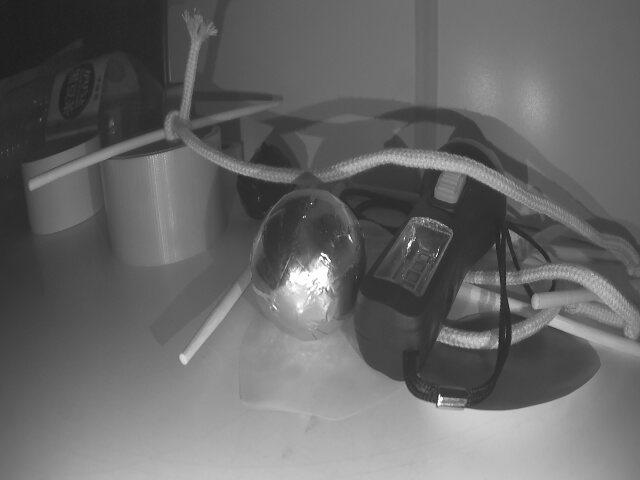Dead: (237, 142, 299, 225)
Live: (249, 189, 370, 343)
